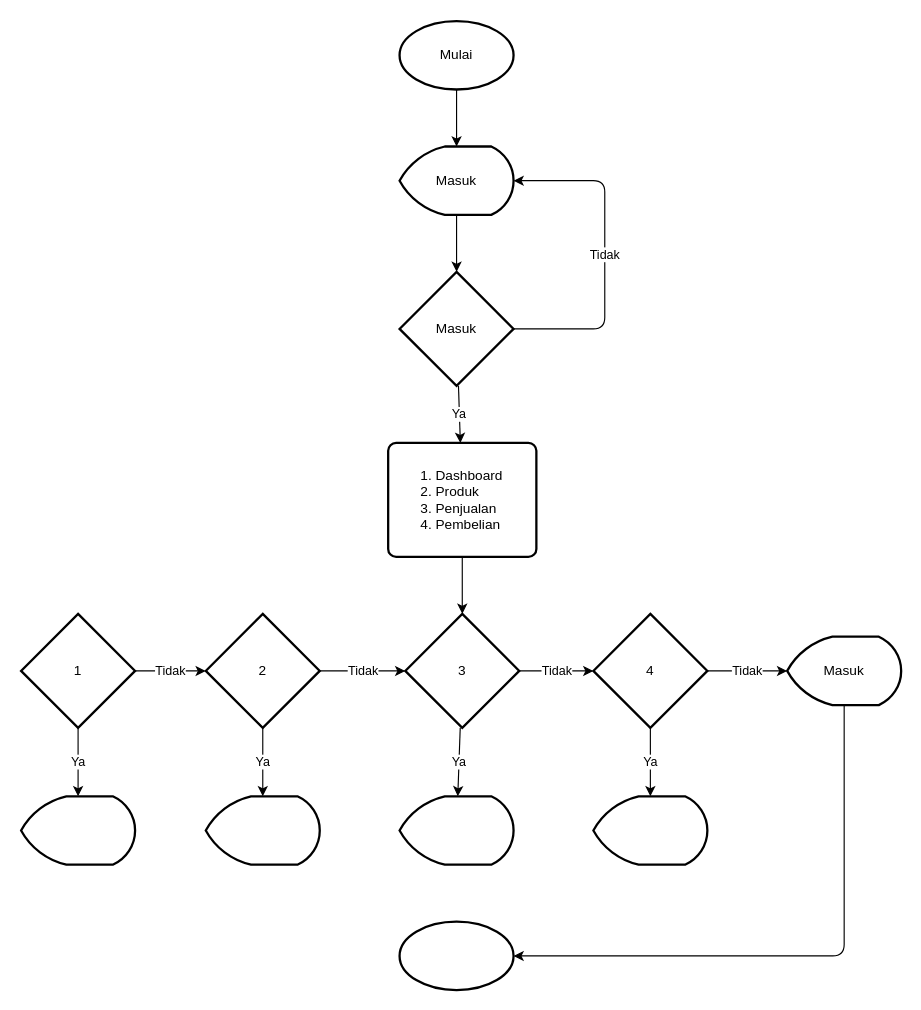
Some shapes in this 921 by 1010 pixel diagram are drawn without their labels. Here are the shapes that lost their labels. From the top down, the centre of each, then its label:
At pixel 77 830: "Dashboard".
At pixel 262 830: "Produk".
At pixel 456 830: "Penjualan".
At pixel 650 830: "Pembelian".
At pixel 456 955: "Selesai".
